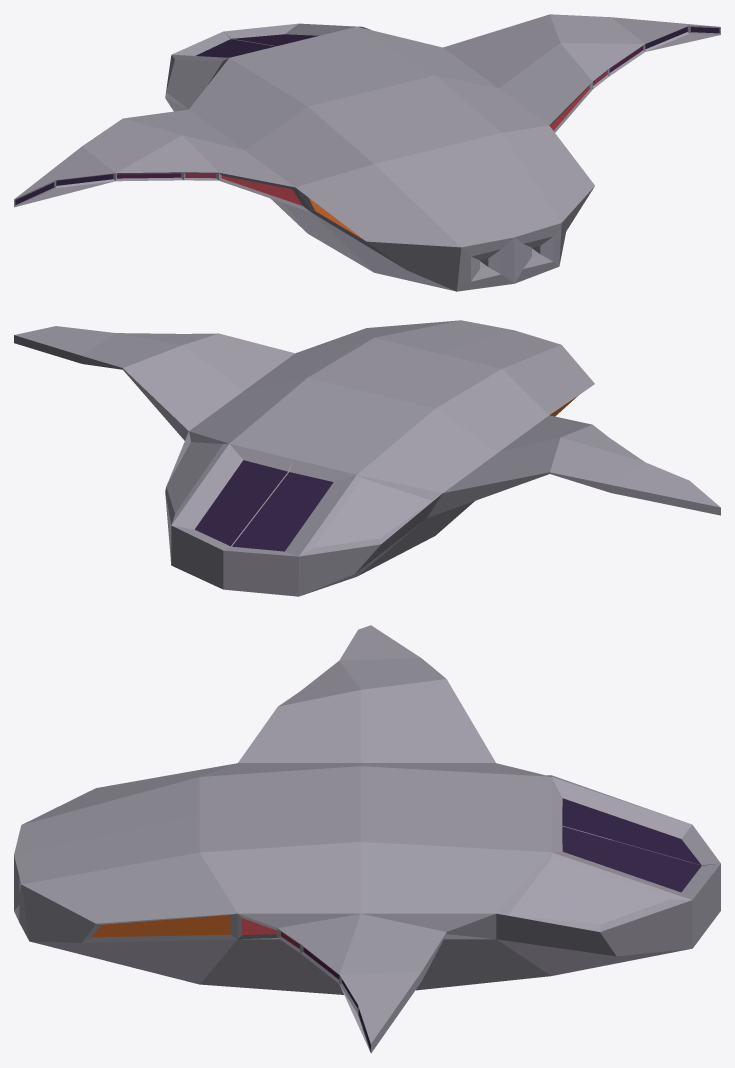
The model's file is SpacecraftRemake.fbx.
3 renders of one model, top to bottom at view 1: azimuth 30°, elevation 25°; view 2: azimuth 150°, elevation 25°; view 3: azimuth 270°, elevation 25°, orthographic. The views are drawn at different scales.
Visible parts, largest first — view 1: Cube; view 2: Cube; view 3: Cube.
Boxes of the visible parts, bbox=[...] form: Cube: bbox=[14, 14, 720, 291]; Cube: bbox=[14, 320, 720, 596]; Cube: bbox=[14, 625, 720, 1053].
Bounding box in the file's own units: 557 × 106 × 397.
